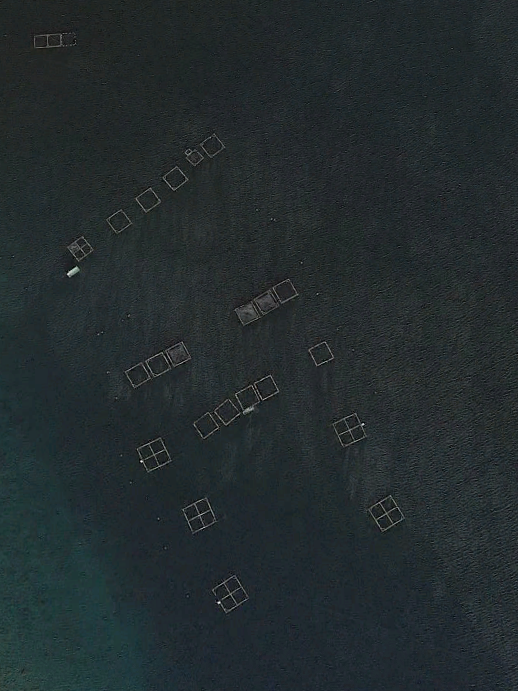square: (131, 434, 186, 477), (205, 571, 253, 619), (364, 486, 407, 531), (329, 407, 371, 453), (187, 491, 229, 533), (141, 346, 179, 381), (303, 336, 339, 370), (270, 272, 302, 309), (250, 280, 282, 313), (104, 206, 137, 238), (253, 368, 283, 403), (231, 383, 266, 413), (129, 184, 166, 212), (164, 338, 197, 369), (67, 233, 99, 263), (193, 408, 224, 438), (164, 163, 196, 192), (214, 397, 244, 426), (197, 133, 229, 160), (231, 300, 265, 322), (129, 361, 153, 387), (56, 27, 82, 50), (31, 31, 57, 54), (45, 31, 65, 49)
